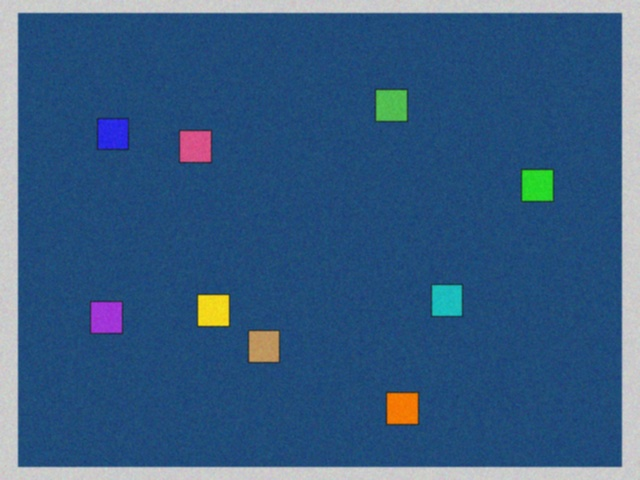block: (97, 118, 139, 155), (91, 298, 133, 334), (511, 170, 554, 204), (383, 384, 418, 425), (180, 131, 218, 167), (425, 282, 463, 317), (372, 90, 407, 128), (197, 292, 234, 326), (248, 325, 282, 362)
